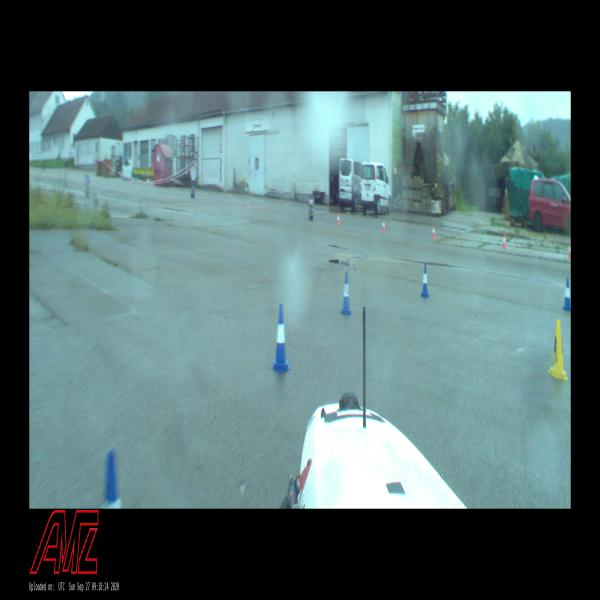blue_cone: (270, 304, 292, 374), (340, 271, 352, 316), (420, 264, 429, 298), (562, 279, 571, 311)
orange_cone: (432, 224, 436, 240), (502, 234, 506, 249), (568, 241, 571, 260), (337, 212, 340, 226), (382, 220, 385, 232)
yellow_cone: (548, 320, 568, 380)
